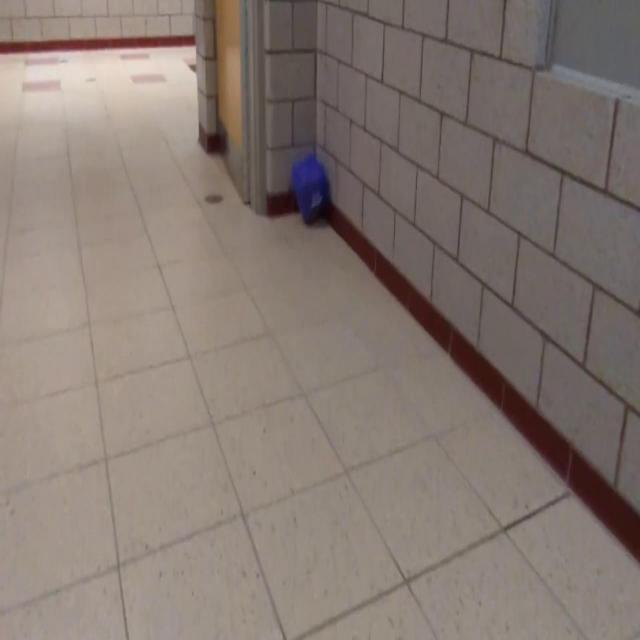frc_cube: (294, 155, 329, 225)
